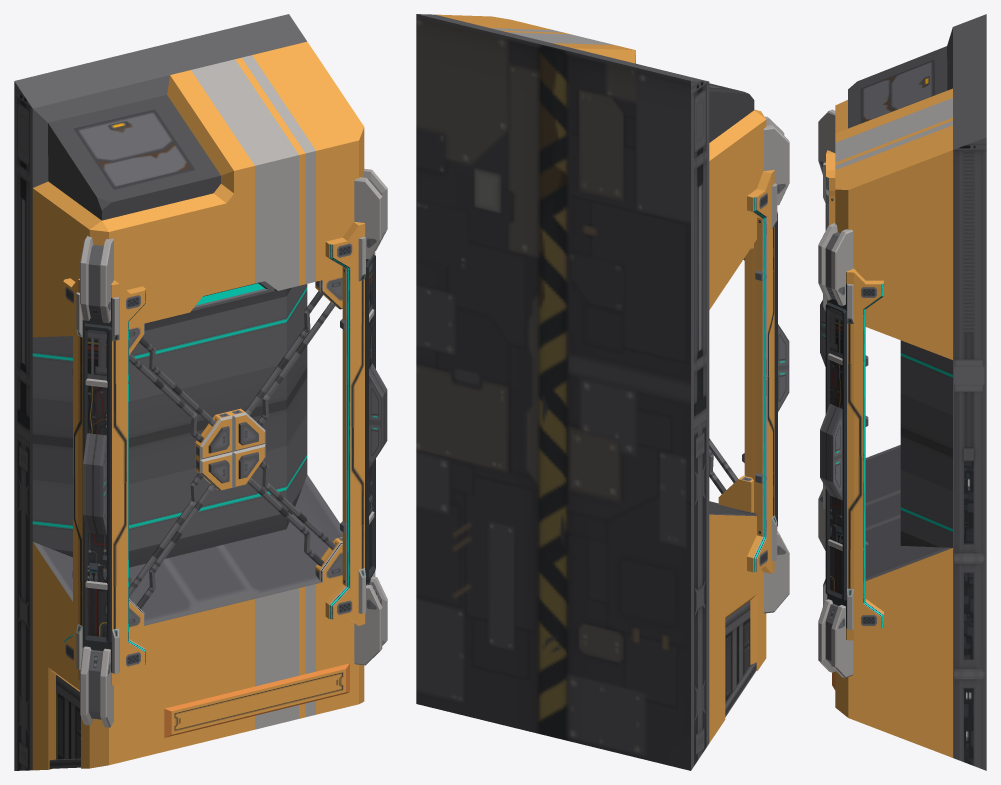
File: SM_Prop_Greeble_Wall_03.fbx
3 renders of one model, left to right at view 1: azimuth 30°, elevation 25°; view 2: azimuth 150°, elevation 25°; view 3: azimuth 270°, elevation 25°, orthographic. The views are drawn at different scales.
Visible parts, largest first — view 1: SM_Prop_Greeble_Wall_03; view 2: SM_Prop_Greeble_Wall_03; view 3: SM_Prop_Greeble_Wall_03.
Boxes of the visible parts, x1=… form: SM_Prop_Greeble_Wall_03: x1=14, y1=14, x2=387, y2=770; SM_Prop_Greeble_Wall_03: x1=416, y1=14, x2=789, y2=770; SM_Prop_Greeble_Wall_03: x1=818, y1=14, x2=986, y2=770.
Bounding box in the file's own units: 279 × 600 × 145.
